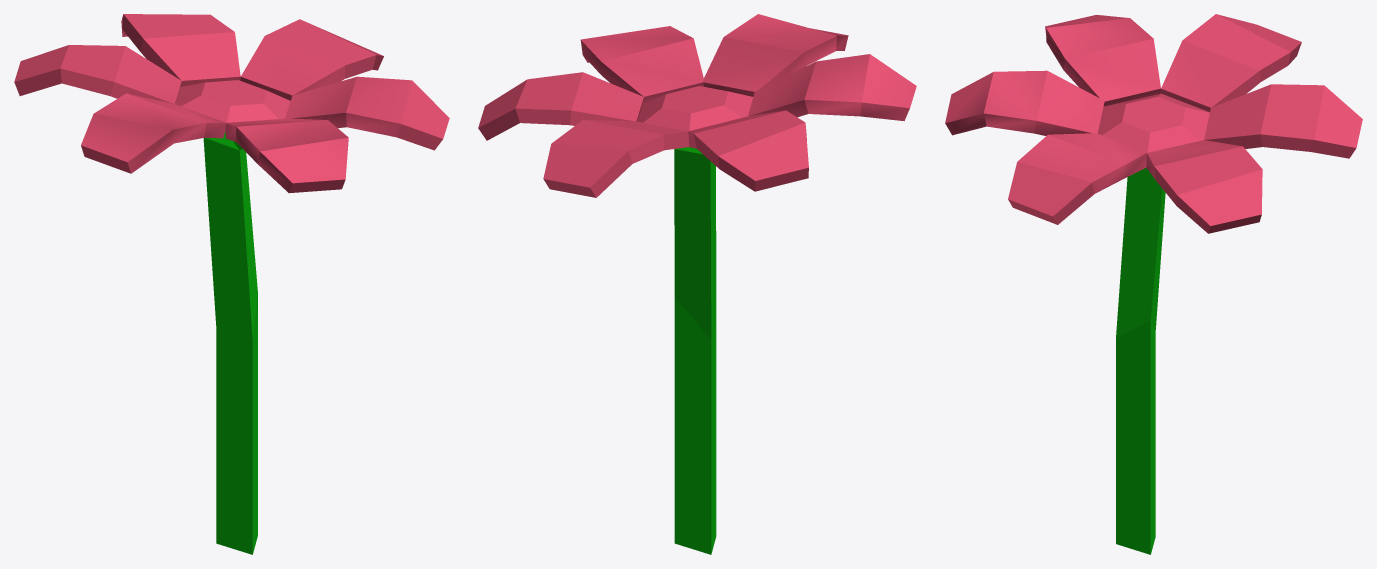
The model's file is Flower02_V2.fbx.
3 views of the same model, side by side, from view 1: azimuth 30°, elevation 25°; view 2: azimuth 150°, elevation 25°; view 3: azimuth 270°, elevation 25° (orthographic). The views are drawn at different scales.
Visible parts, largest first — view 1: Circle.006_Circle.003; view 2: Circle.006_Circle.003; view 3: Circle.006_Circle.003.
Part boxes in pixels (x1,y1,x2,y2): Circle.006_Circle.003: (14,14,449,554); Circle.006_Circle.003: (478,14,916,554); Circle.006_Circle.003: (945,14,1362,554).
Size of the model in its own units: 26.63 by 33.87 by 27.63.
